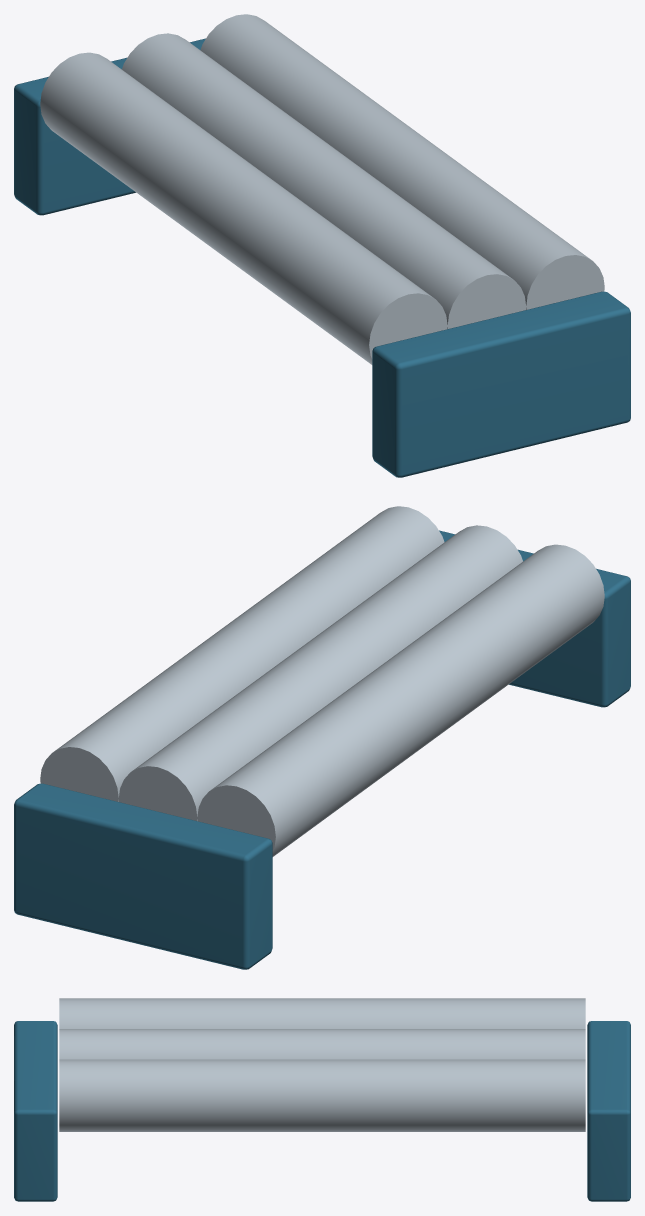
The model's file is Connection_TransferBridge.fbx.
3 renders of one model, top to bottom at view 1: azimuth 30°, elevation 25°; view 2: azimuth 150°, elevation 25°; view 3: azimuth 270°, elevation 25°, orthographic. The views are drawn at different scales.
Parts seen in each view (by area): view 1: Roller, Side.002, Roller.001, Roller.002, Side.003; view 2: Roller, Side.003, Roller.001, Roller.002, Side.002; view 3: Roller.002, Roller, Roller.001, Side.002, Side.003.
Boxes of the visible parts, x1,y1,x2,y2 form: Roller: [40, 52, 447, 364]; Side.002: [372, 291, 630, 477]; Roller.001: [122, 33, 526, 329]; Roller.002: [200, 14, 604, 309]; Side.003: [14, 38, 205, 215]; Roller: [197, 544, 604, 856]; Side.003: [14, 783, 272, 969]; Roller.001: [118, 525, 522, 821]; Roller.002: [40, 506, 444, 801]; Side.002: [439, 530, 630, 707]; Roller.002: [59, 1059, 585, 1131]; Roller: [59, 998, 585, 1028]; Roller.001: [59, 1029, 585, 1059]; Side.002: [14, 1021, 57, 1201]; Side.003: [587, 1021, 630, 1201].
Bounding box in the file's own units: 0.6 × 0.38 × 1.7.
